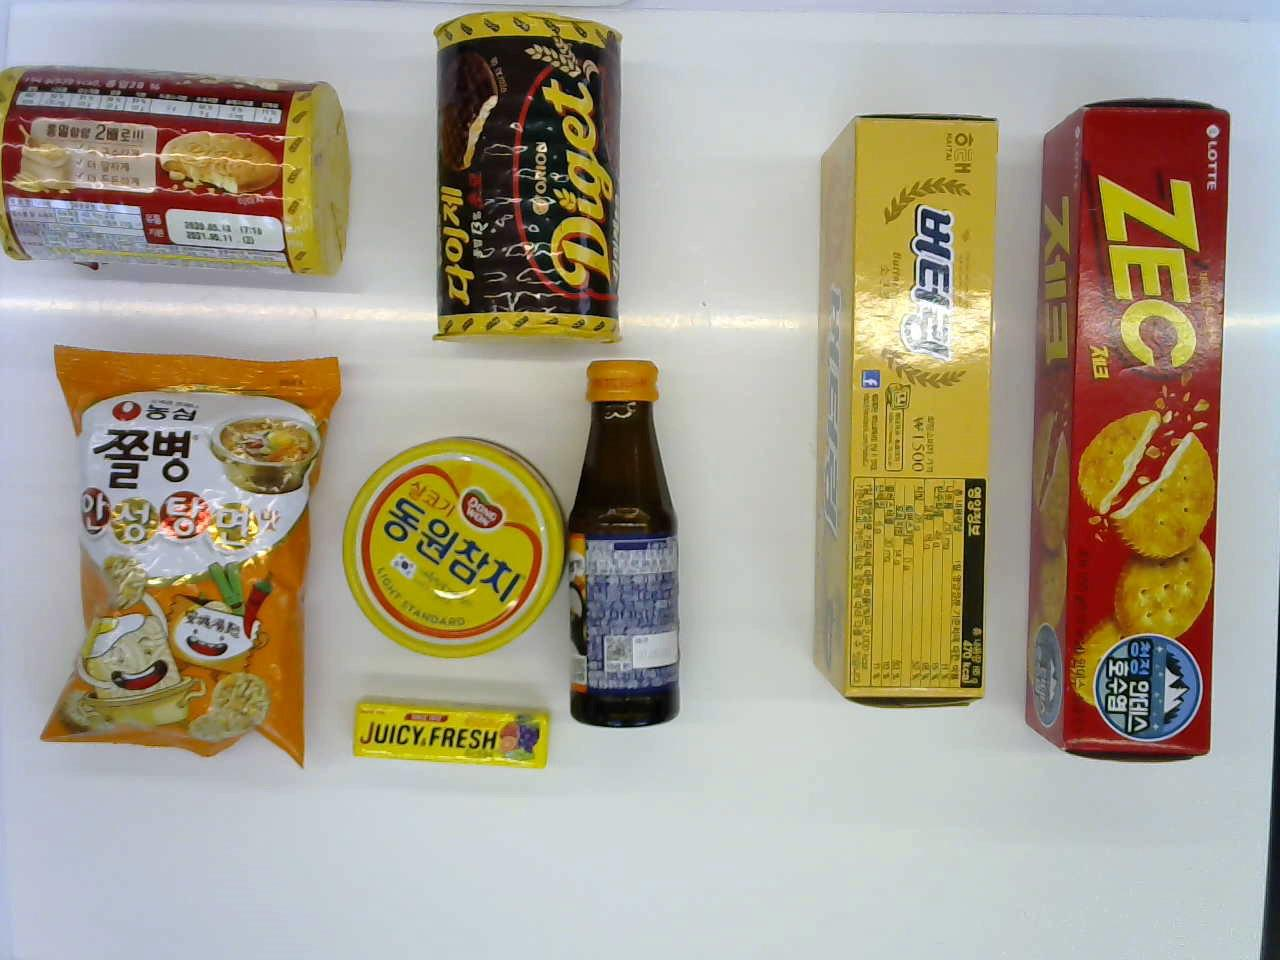buttering: (790, 105, 1007, 717)
diget_choco: (411, 11, 632, 355)
diget_ori: (0, 54, 357, 291)
jjolbyung_noodle: (36, 351, 333, 764)
juicyfresh: (346, 689, 558, 785)
tuna: (346, 438, 560, 662)
vita500: (564, 356, 683, 733)
zec: (1037, 87, 1225, 768)
